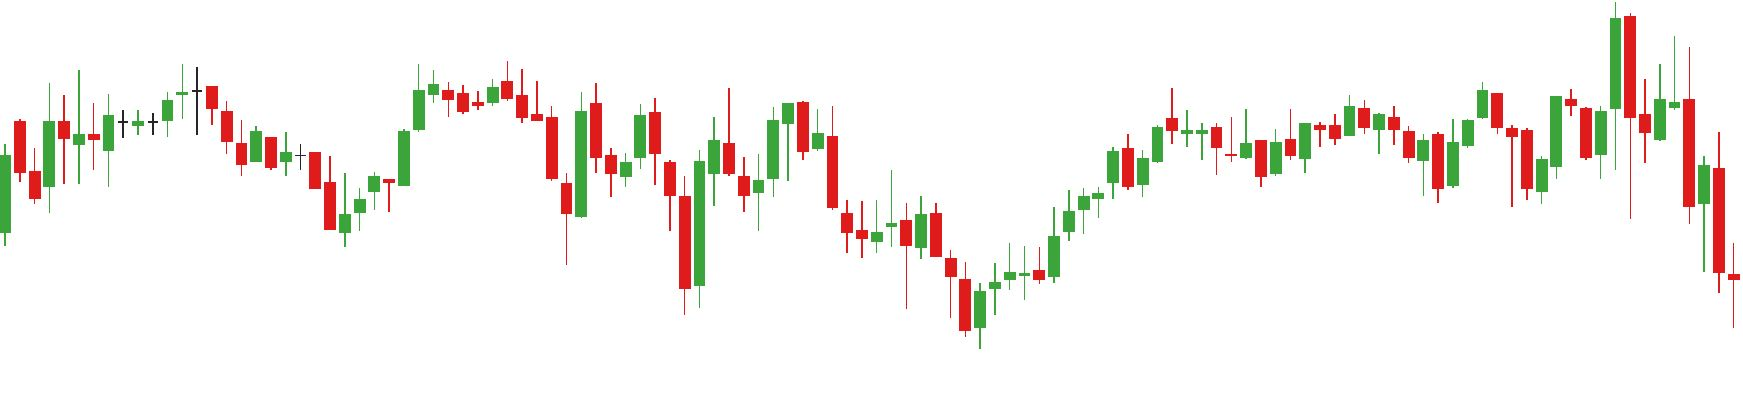buy: (336, 116, 574, 280)
sell: (1476, 1, 1639, 172), (633, 86, 739, 218)
